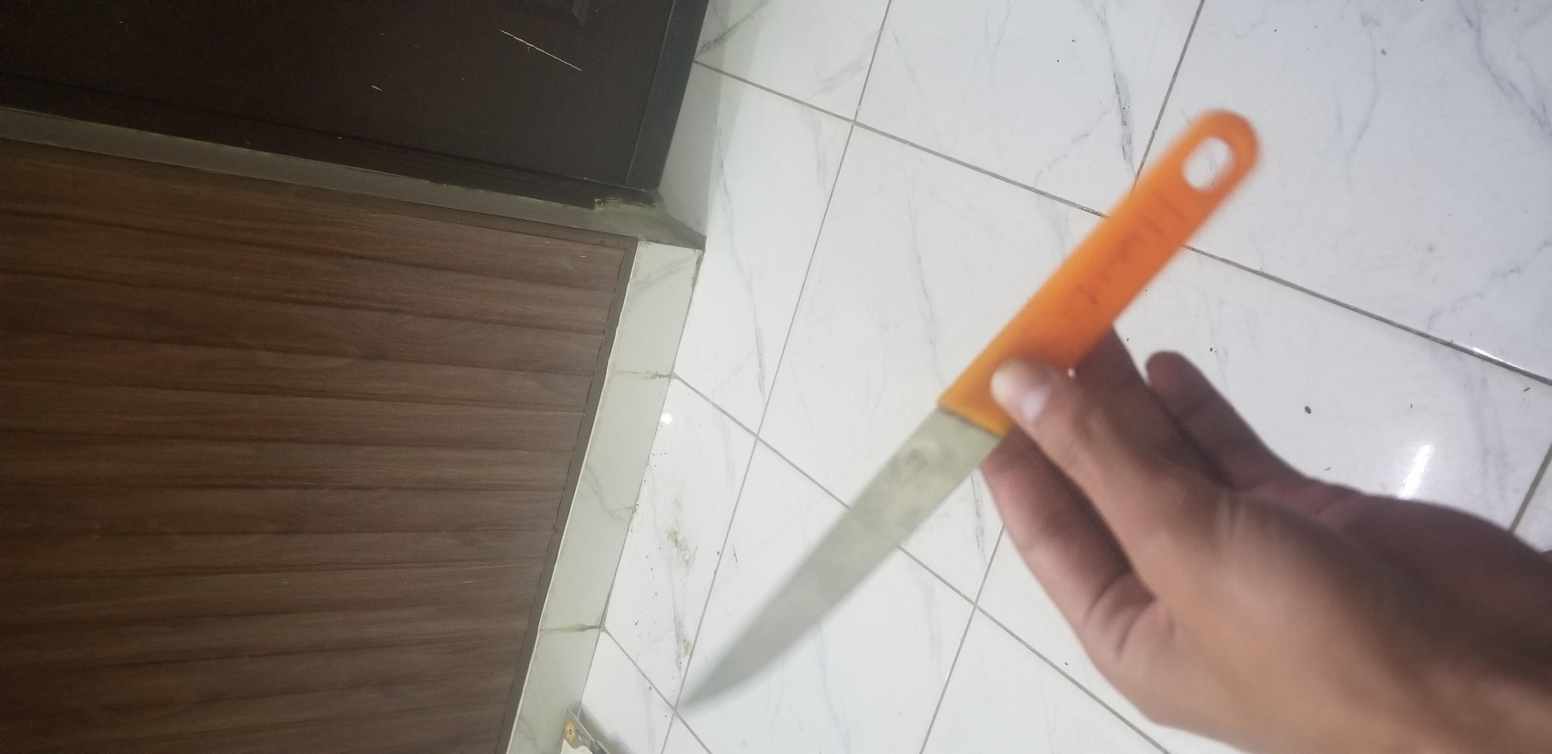knives: (42, 320, 1371, 617)
